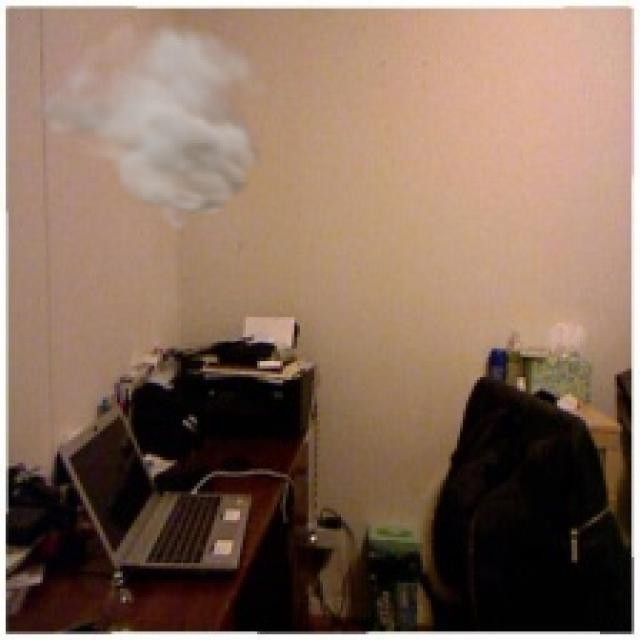Smoke: (20, 14, 286, 234)
